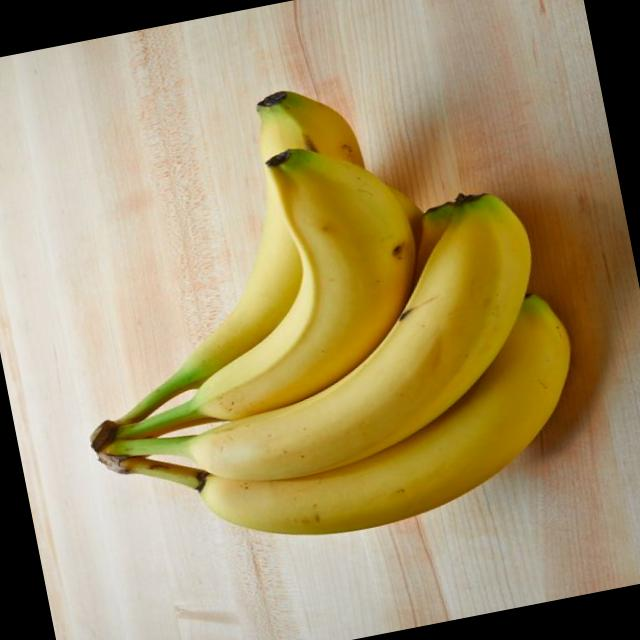banana: (26, 44, 602, 580)
